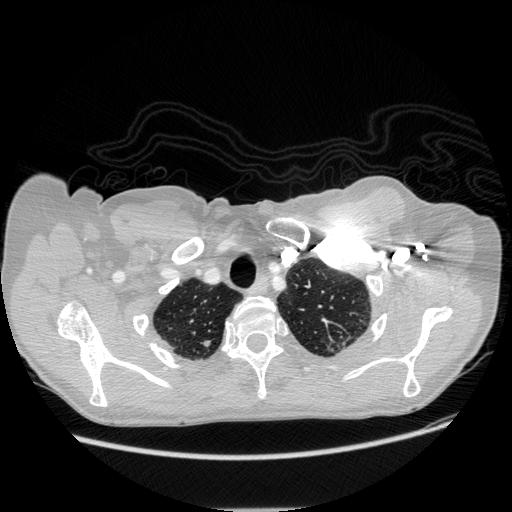nodule: (201, 337, 213, 349)
